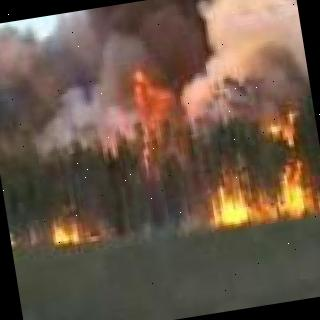fire: (203, 105, 320, 230), (118, 52, 184, 162), (52, 214, 104, 246)
